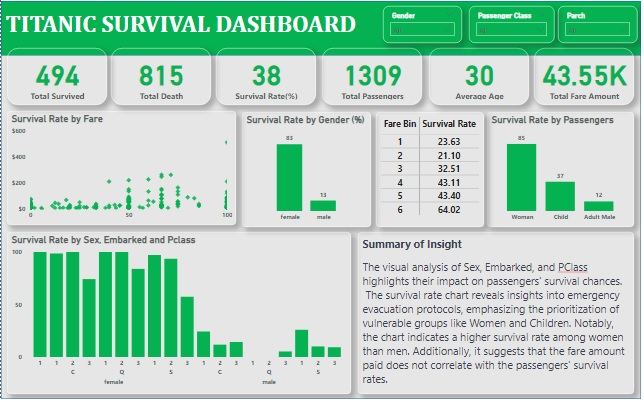

The page's visual inventory and layout, read from the dashboard file:
{"tool":"powerbi","page":{"name":"Page 1","canvas":[1280,800],"ordinal":0},"visuals":[{"type":"shape","box":[0,3.4,1280,109],"z":0},{"type":"shape","box":[0,112,1280,688],"z":1000},{"type":"card","fields":{"Values":["TitanicData.Total Survived"]},"box":[11.7,97.3,199.6,114.1],"z":2000},{"type":"card","fields":{"Values":["TitanicData.Total Death"]},"box":[219.8,97.3,199.6,114.1],"z":3000},{"type":"card","fields":{"Values":["TitanicData.TotalPassengers"]},"box":[642.5,97.3,199.6,114.1],"z":4000},{"type":"card","fields":{"Values":["TitanicData.Average Age"]},"box":[855.6,97.3,199.6,114.1],"z":5000},{"type":"card","fields":{"Values":["TitanicData.Survival Rate(%)"]},"box":[429.5,97.3,199.6,114.1],"z":6000},{"type":"card","fields":{"Values":["TitanicData.Total Fare Amount"]},"box":[1066.9,97.3,199.6,114.1],"z":7000},{"type":"clusteredColumnChart","title":"Survival Rate by Gender (%)","fields":{"Category":["TitanicData.Sex"],"Y":["TitanicData.Survival Rate"]},"box":[482,226,258,230],"z":8000},{"type":"scatterChart","fields":{"X":["TitanicData.Survival Rate"],"Y":["TitanicData.Fare"]},"box":[12,224,458,228],"z":9000},{"type":"clusteredColumnChart","title":"Survival Rate by Passengers","fields":{"Category":["TitanicData.Passengers"],"Y":["TitanicData.Survival Rate"]},"box":[972,226,294,230],"z":10000},{"type":"clusteredColumnChart","fields":{"Category":["TitanicData.Sex","TitanicData.Embarked","TitanicData.Pclass"],"Y":["TitanicData.Survival Rate"]},"box":[12,466,688,324],"z":11000},{"type":"tableEx","fields":{"Values":["TitanicData.Fare Bin","TitanicData.Survival Rate"]},"box":[750,226,216,230],"z":12000},{"type":"textbox","box":[3.4,13.4,830.4,75.5],"z":13000},{"type":"slicer","fields":{"Values":["TitanicData.Pclass"]},"box":[936.1,13.4,171.1,73.8],"z":14000},{"type":"slicer","fields":{"Values":["TitanicData.Sex"]},"box":[763.3,13.4,157.7,73.8],"z":15000},{"type":"slicer","fields":{"Values":["TitanicData.Parch"]},"box":[1113.9,13.4,159.4,73.8],"z":16000},{"type":"textbox","box":[714,466,552,324],"z":16001}]}

Visuals, with their boxes in screenshot pixels (x1, y1, x2, y2), scaled from the page's 1280x800 canvas onto the 644x402 screenshot:
shape: x1=0, y1=2, x2=643, y2=56
shape: x1=0, y1=56, x2=643, y2=401
card - TitanicData.Total Survived: x1=6, y1=49, x2=106, y2=106
card - TitanicData.Total Death: x1=111, y1=49, x2=211, y2=106
card - TitanicData.TotalPassengers: x1=323, y1=49, x2=424, y2=106
card - TitanicData.Average Age: x1=430, y1=49, x2=531, y2=106
card - TitanicData.Survival Rate(%): x1=216, y1=49, x2=317, y2=106
card - TitanicData.Total Fare Amount: x1=537, y1=49, x2=637, y2=106
"Survival Rate by Gender (%)" clusteredColumnChart: x1=243, y1=114, x2=372, y2=229
scatterChart - TitanicData.Survival Rate x TitanicData.Fare: x1=6, y1=113, x2=236, y2=227
"Survival Rate by Passengers" clusteredColumnChart: x1=489, y1=114, x2=637, y2=229
clusteredColumnChart - TitanicData.Sex x TitanicData.Embarked: x1=6, y1=234, x2=352, y2=397
tableEx - TitanicData.Fare Bin x TitanicData.Survival Rate: x1=377, y1=114, x2=486, y2=229
textbox: x1=2, y1=7, x2=420, y2=45
slicer - TitanicData.Pclass: x1=471, y1=7, x2=557, y2=44
slicer - TitanicData.Sex: x1=384, y1=7, x2=463, y2=44
slicer - TitanicData.Parch: x1=560, y1=7, x2=641, y2=44
textbox: x1=359, y1=234, x2=637, y2=397
